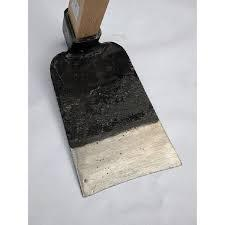HOUE: (40, 1, 187, 210)
